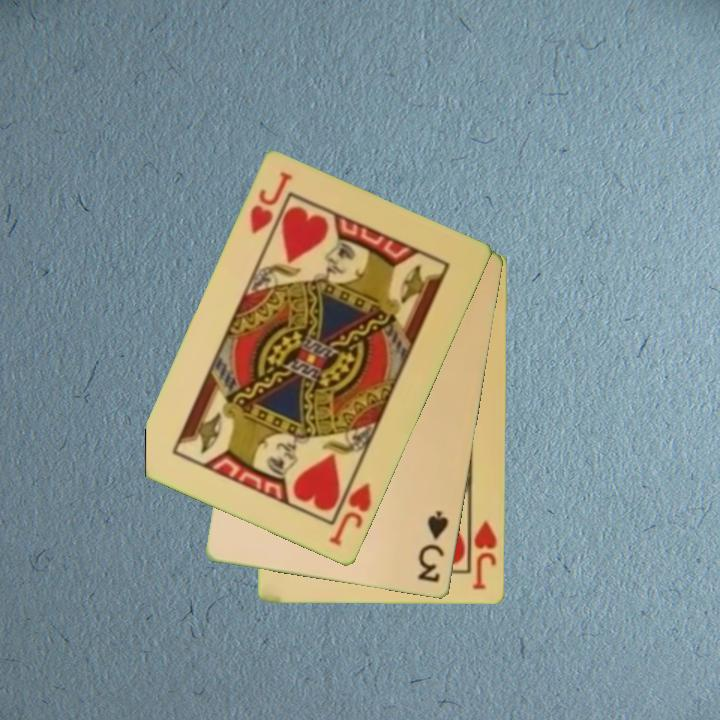3s: (414, 508, 452, 586)
Jh: (326, 468, 375, 550), (246, 168, 296, 238), (466, 510, 500, 592)
